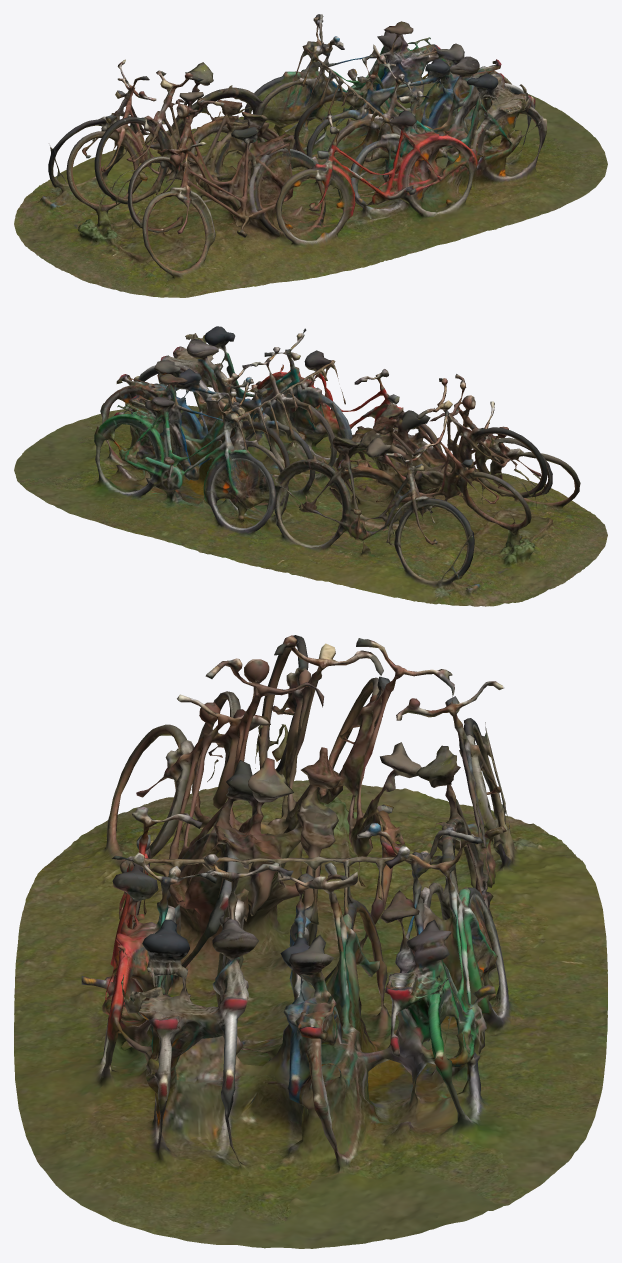
The model's file is bikes.glb.
The picture shows the model from 3 angles, top to bottom: view 1: azimuth 30°, elevation 25°; view 2: azimuth 150°, elevation 25°; view 3: azimuth 270°, elevation 25°; orthographic projection. The views are drawn at different scales.
Parts seen in each view (by area): view 1: Object_4; view 2: Object_4; view 3: Object_4.
Part boxes in pixels (x1,y1,x2,y2): Object_4: [14, 14, 607, 297]; Object_4: [14, 326, 607, 606]; Object_4: [14, 635, 607, 1248].
Size of the model in its own units: 4.42 by 1.25 by 2.39.
2 materials, 1 textured.
